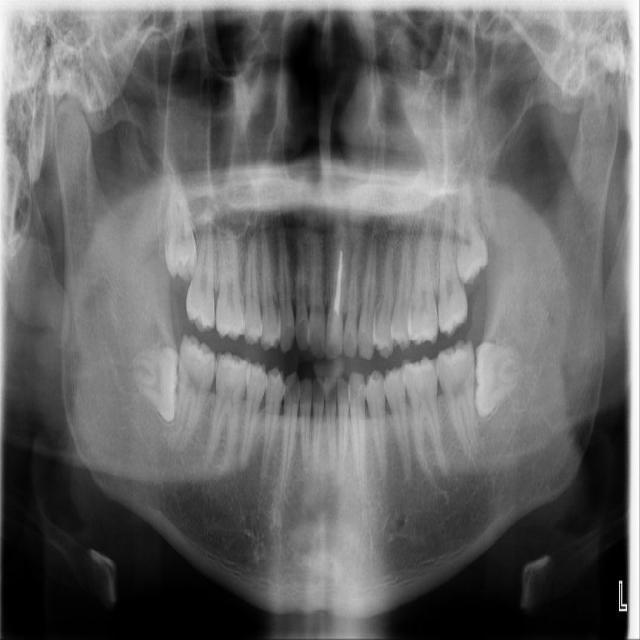3M ESPE Implant: (163, 160, 197, 281)
73: (328, 237, 349, 315), (604, 590, 608, 601)
BioHorizons Implant: (437, 199, 471, 338)
BioLife Implant: (456, 183, 489, 284)
Biomet 3i Implant: (472, 341, 525, 419)
Blue Sky Bio Implant: (435, 338, 479, 457)
Caries: (185, 219, 215, 332)
Implant: (169, 334, 222, 452)
Keystone Dental Implant: (131, 347, 181, 423)
